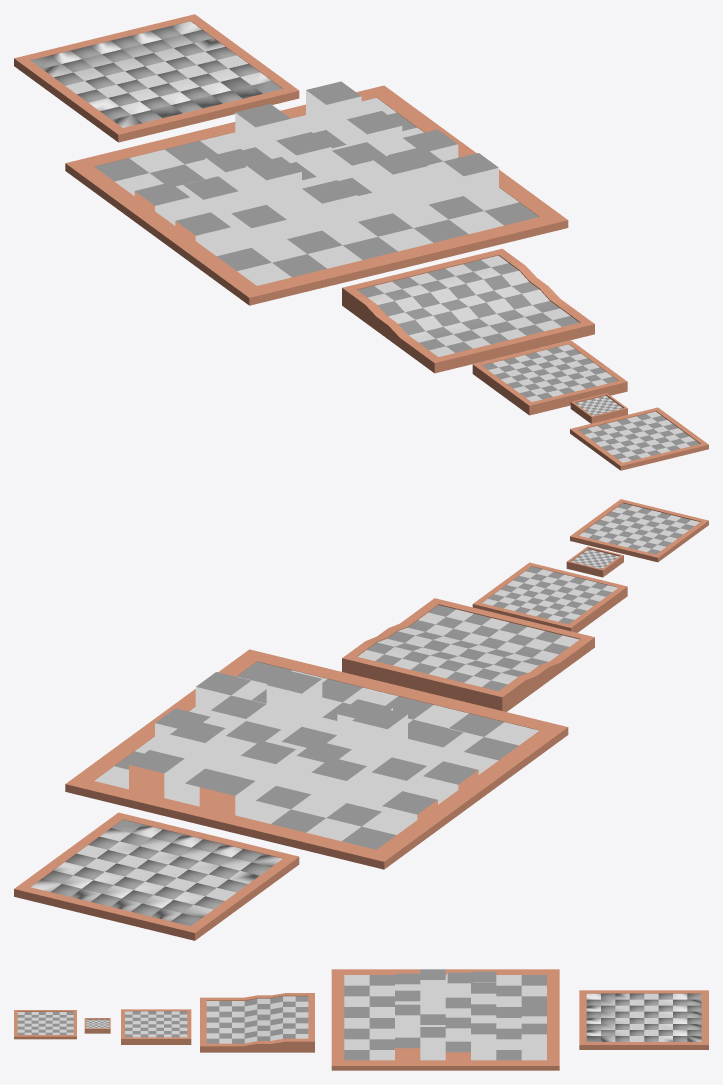
File: ChessAreea.fbx
3 renders of one model, top to bottom at view 1: azimuth 30°, elevation 25°; view 2: azimuth 150°, elevation 25°; view 3: azimuth 270°, elevation 25°, orthographic. The views are drawn at different scales.
Parts seen in each view (by area): view 1: ChessBoard.005, ChessBoard.004, ChessBoard.006, ChessBoard.002, ChessBoard.001, ChessBoard.003; view 2: ChessBoard.005, ChessBoard.004, ChessBoard.006, ChessBoard.002, ChessBoard.001, ChessBoard.003; view 3: ChessBoard.005, ChessBoard.004, ChessBoard.006, ChessBoard.002, ChessBoard.001, ChessBoard.003.
Part boxes in pixels (box(x1,y1,x2,y2)): ChessBoard.005: box(65, 81, 568, 305); ChessBoard.004: box(342, 248, 594, 373); ChessBoard.006: box(14, 14, 299, 142); ChessBoard.002: box(472, 340, 627, 415); ChessBoard.001: box(570, 407, 708, 470); ChessBoard.003: box(570, 393, 627, 423); ChessBoard.005: box(65, 649, 568, 869); ChessBoard.004: box(342, 598, 594, 711); ChessBoard.006: box(14, 812, 299, 940); ChessBoard.002: box(472, 562, 627, 632); ChessBoard.001: box(570, 499, 708, 562); ChessBoard.003: box(566, 546, 623, 577); ChessBoard.005: box(331, 969, 559, 1070); ChessBoard.004: box(200, 993, 314, 1052); ChessBoard.006: box(579, 990, 708, 1049); ChessBoard.002: box(121, 1009, 191, 1044); ChessBoard.001: box(14, 1010, 76, 1039); ChessBoard.003: box(84, 1018, 110, 1033).
Bounding box in the file's own units: 444 × 84.87 × 1352.
